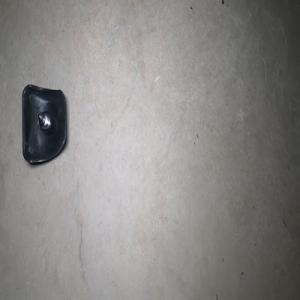LuggagePart: (21, 83, 67, 165)
